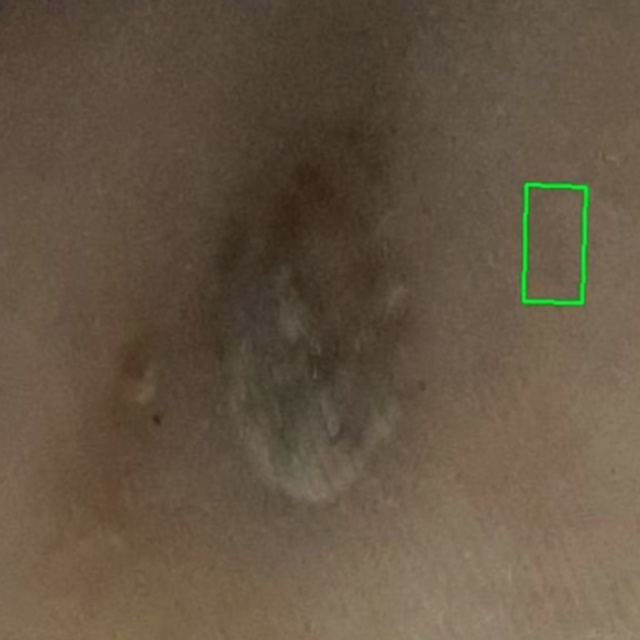Eczema: (524, 184, 586, 302)
